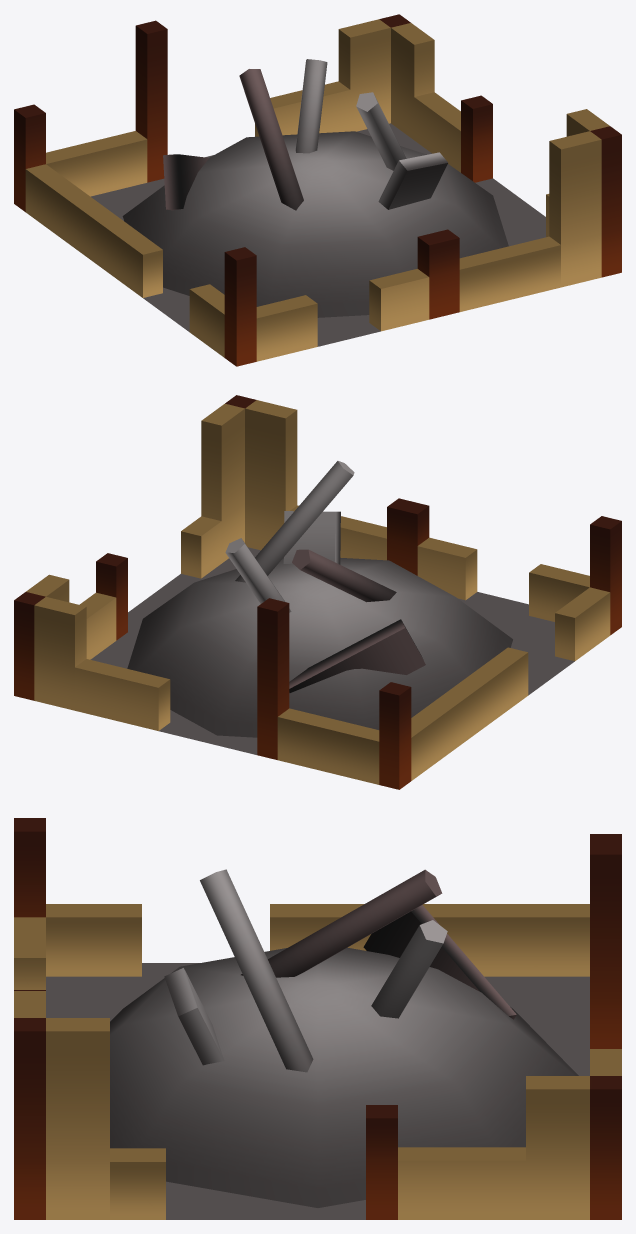
Rendered from Bat_debris.fbx.
3 views of the same model, one above another, from view 1: azimuth 30°, elevation 25°; view 2: azimuth 150°, elevation 25°; view 3: azimuth 270°, elevation 25° (orthographic). The views are drawn at different scales.
Visible parts, largest first — view 1: Bat_debris; view 2: Bat_debris; view 3: Bat_debris.
Part boxes in pixels (left/top/right/bottom): Bat_debris: left=14, top=14, right=621, bottom=366; Bat_debris: left=14, top=395, right=621, bottom=789; Bat_debris: left=14, top=818, right=621, bottom=1219.
Bounding box in the file's own units: 38 × 17.39 × 38.
